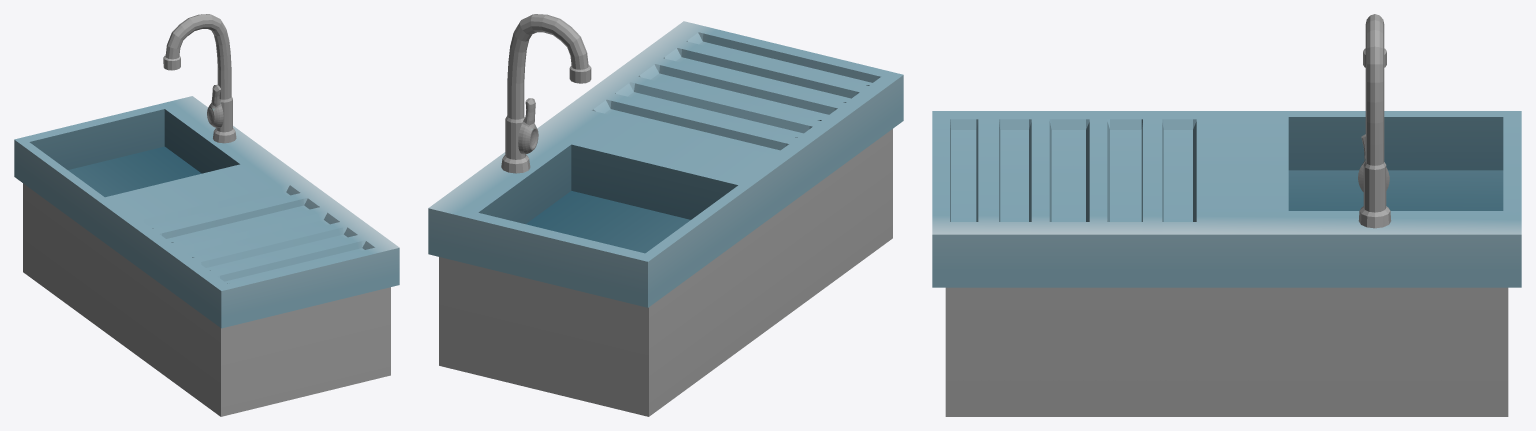
File: Fregadero.fbx
3 views of the same model, side by side, from view 1: azimuth 30°, elevation 25°; view 2: azimuth 150°, elevation 25°; view 3: azimuth 270°, elevation 25° (orthographic). The views are drawn at different scales.
Visible parts, largest first — view 1: Fregadero; view 2: Fregadero; view 3: Fregadero.
Part boxes in pixels (x1,y1,x2,y2): Fregadero: (14,14,399,416); Fregadero: (428,14,903,416); Fregadero: (932,14,1521,416).
Size of the model in its own units: 21.98 by 30.6 by 44.26.
